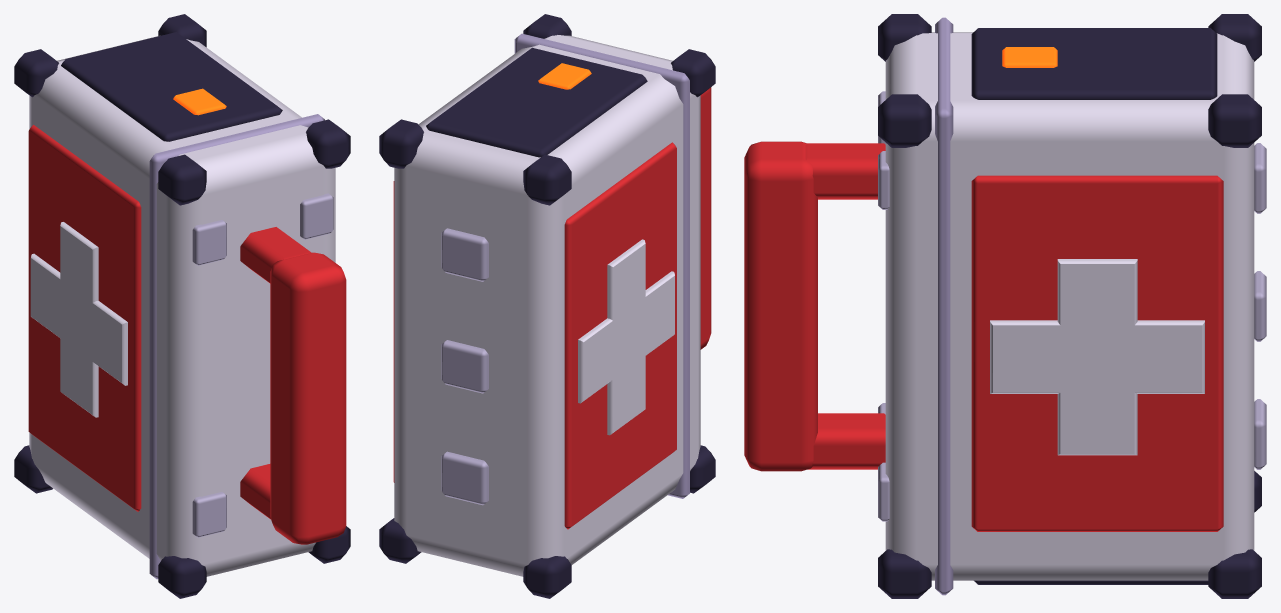
Rendered from med_kit.glb.
3 views of the same model, side by side, from view 1: azimuth 30°, elevation 25°; view 2: azimuth 150°, elevation 25°; view 3: azimuth 270°, elevation 25° (orthographic). The views are drawn at different scales.
Parts seen in each view (by area): view 1: item.med_kit.body; view 2: item.med_kit.body; view 3: item.med_kit.body.
Part boxes in pixels (box(x1,y1,x2,y2)): item.med_kit.body: box(14, 14, 350, 598); item.med_kit.body: box(379, 14, 715, 598); item.med_kit.body: box(744, 14, 1266, 598).
Size of the model in its own units: 0.2531 by 0.5656 by 0.5313.
